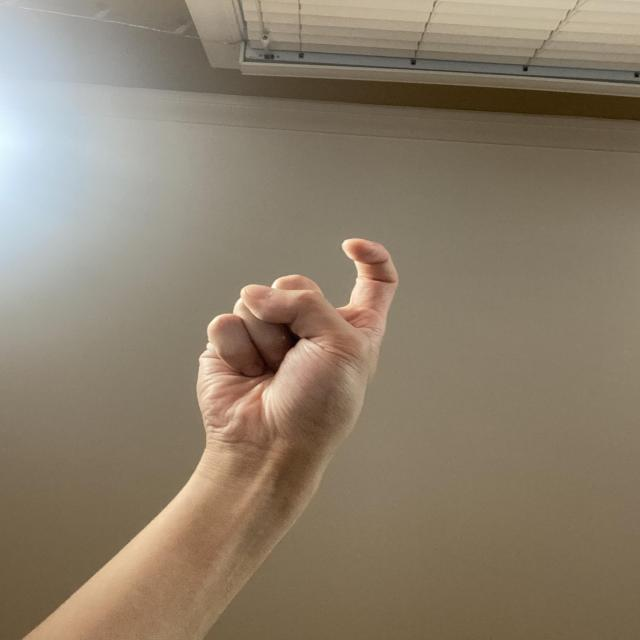X: (187, 231, 408, 477)
